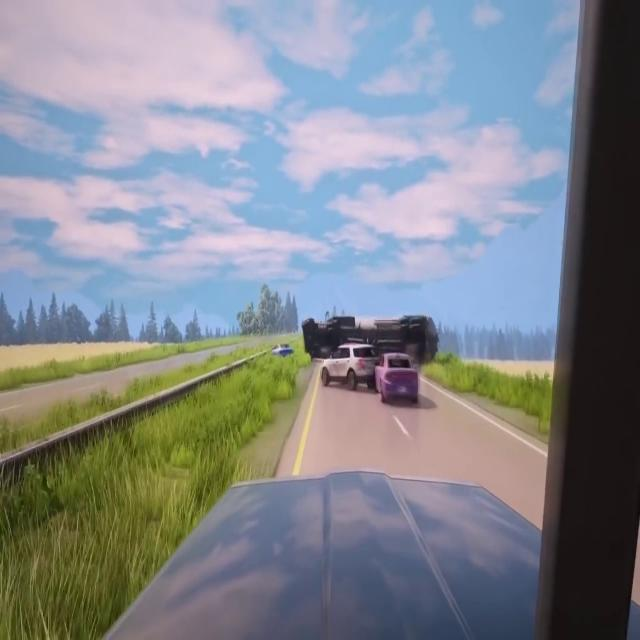accident: (318, 320, 421, 407)
